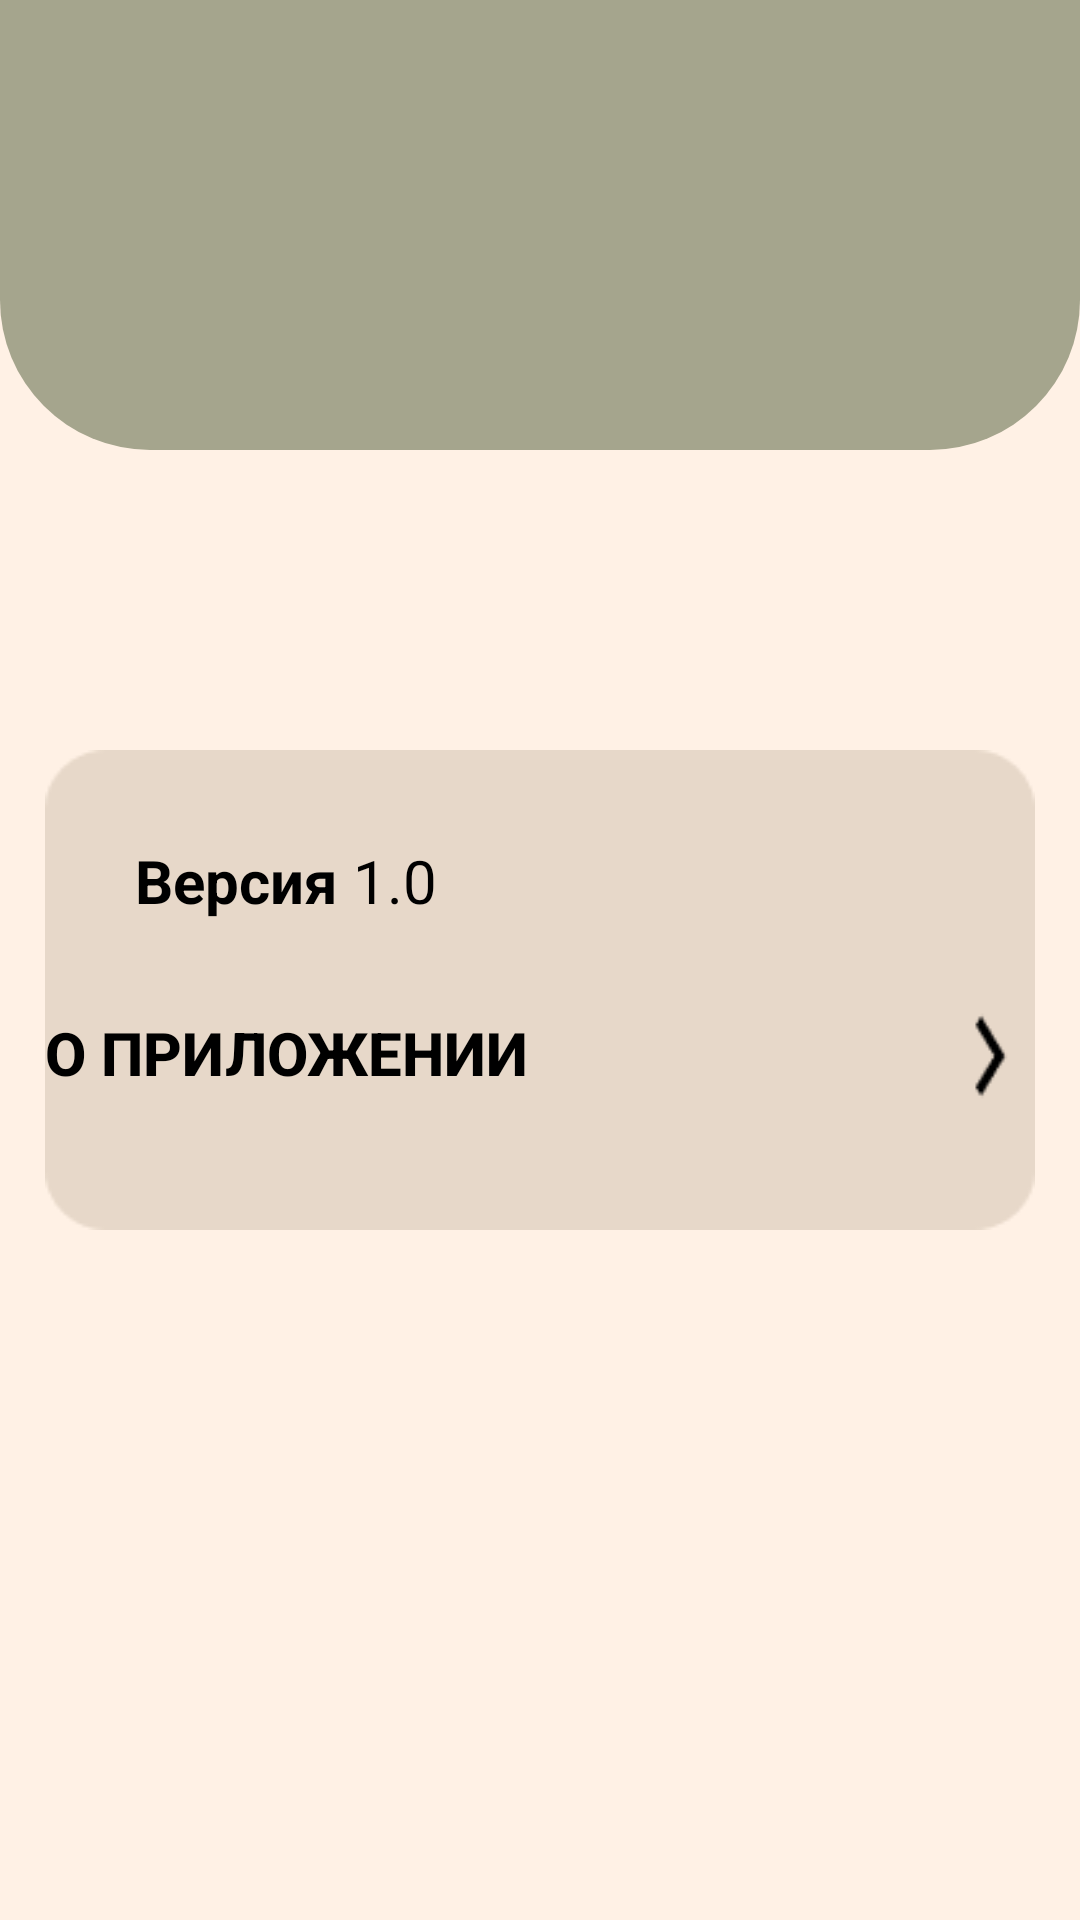

Icons on this 1080*1920 Android screen, each with its box as {"x1": x1, "y1": y1, "x2": x2, "y2": y2}:
arrow right: {"x1": 975, "y1": 1016, "x2": 1006, "y2": 1096}
